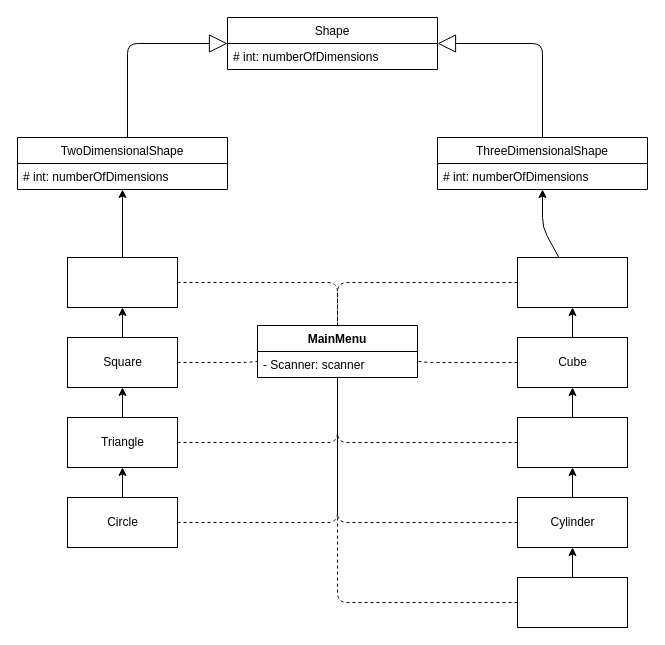
This 665x645 diagram has some shape labels left out. The shapes that lost their labels are listed below. From the top down, each one's centre as x and y in pixels, then its label:
(122,282): Rectangle
(572,282): Cone
(572,442): Sphere
(572,602): Torus
